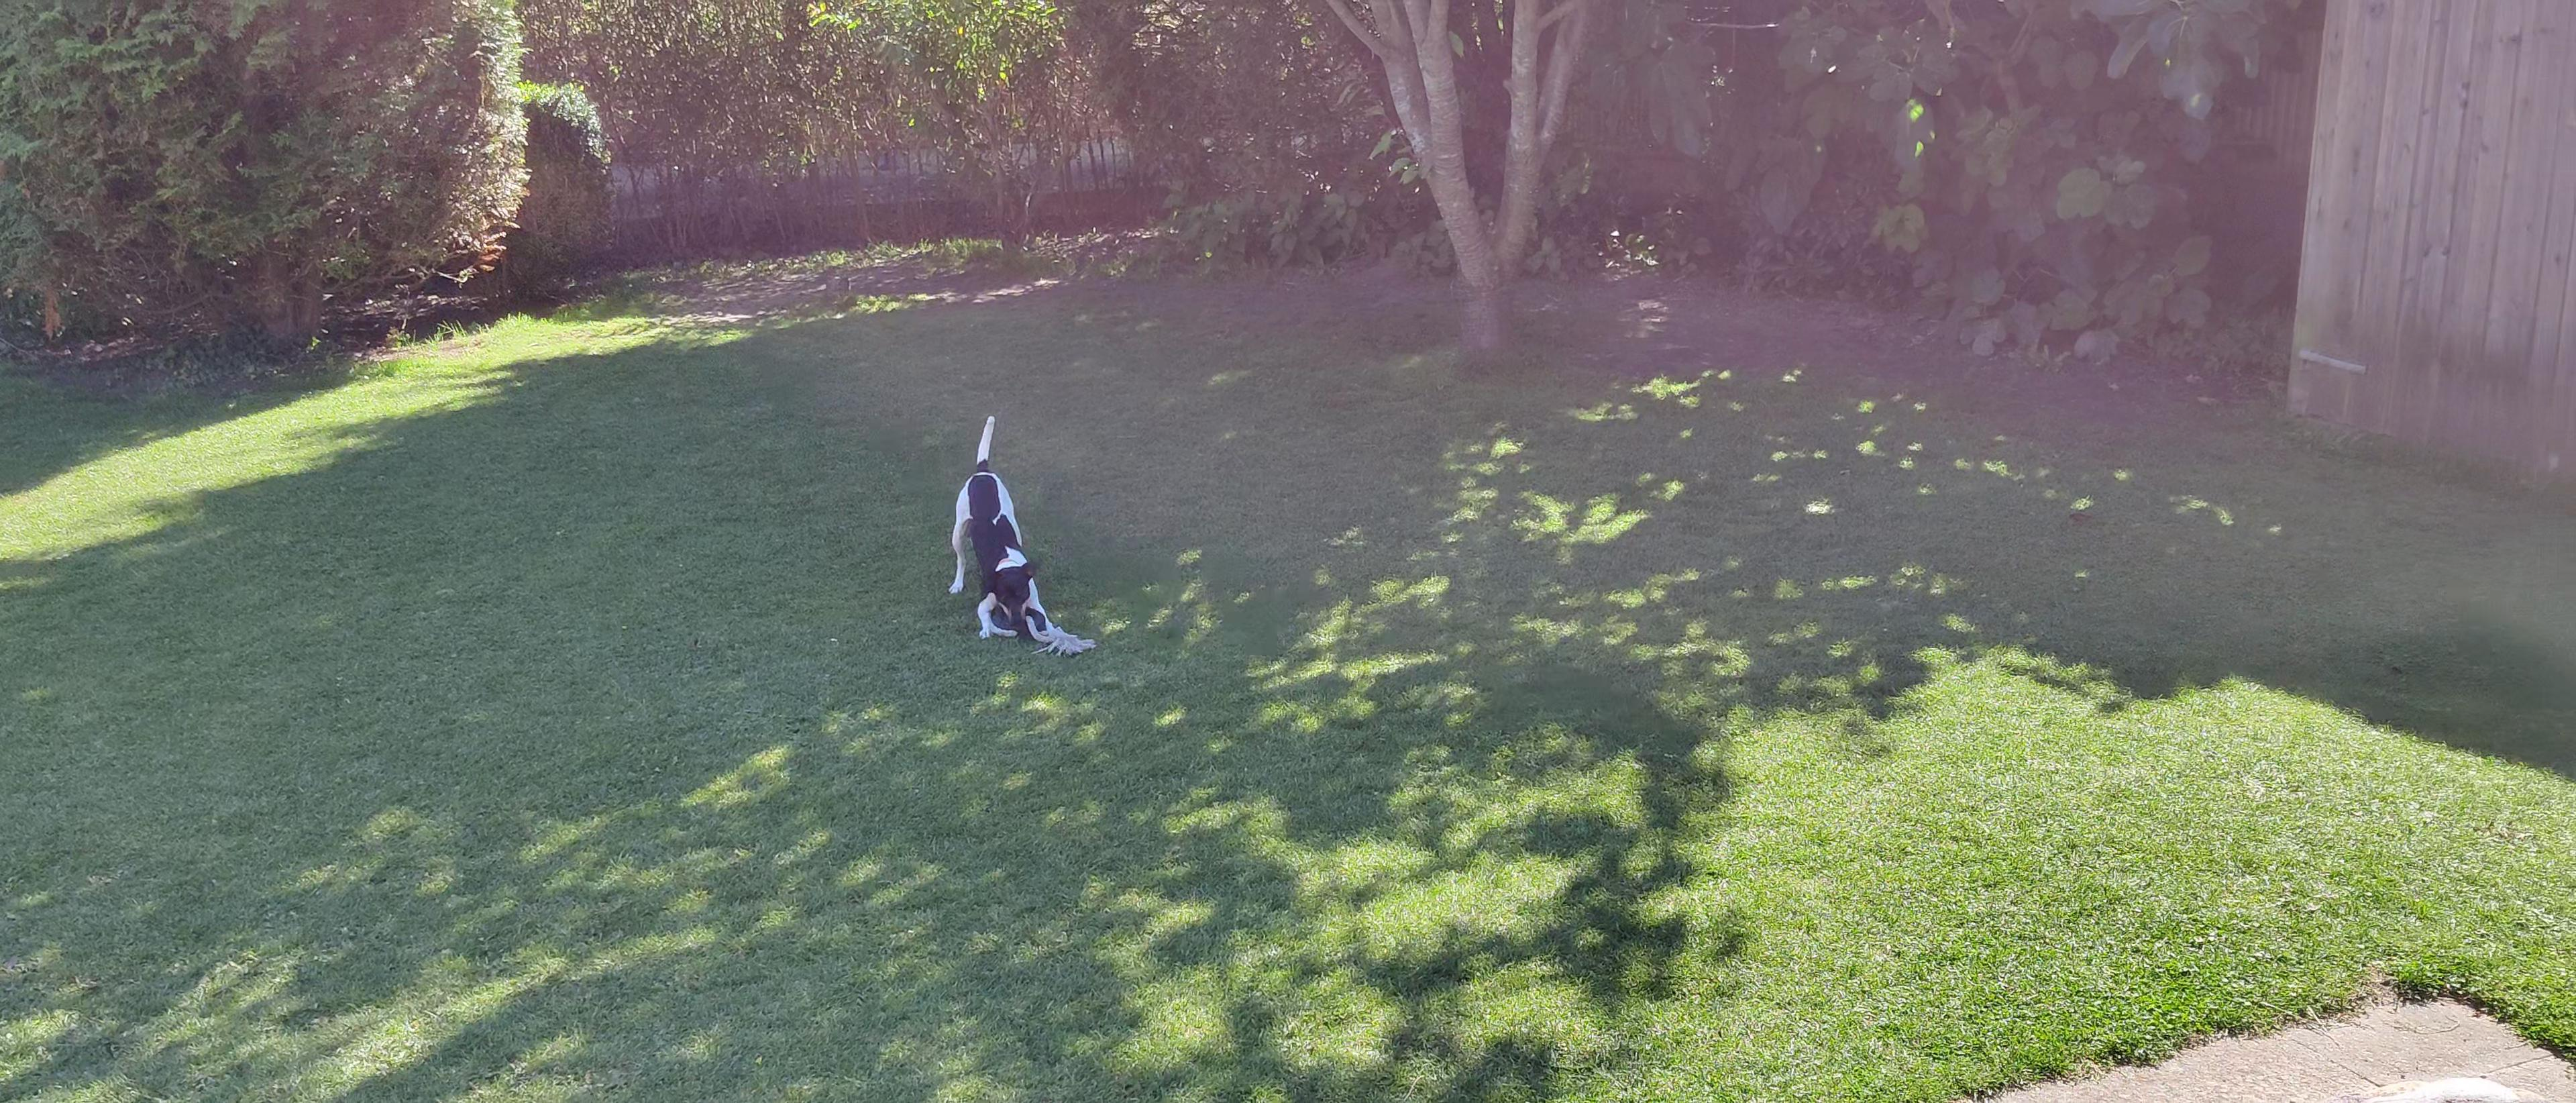Dog: (933, 406, 1061, 656)
